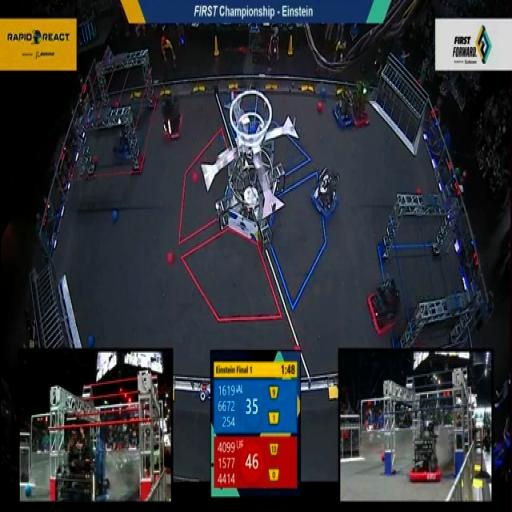robot: (365, 274, 401, 338), (310, 162, 342, 220), (114, 114, 144, 166), (158, 88, 182, 147), (330, 82, 355, 132), (351, 79, 371, 129)
